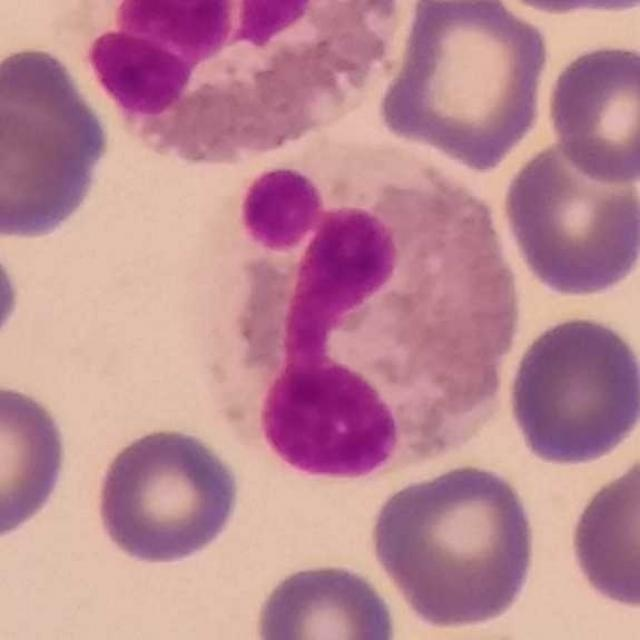Eosinophil: (201, 143, 529, 484), (80, 0, 407, 166)
RBC: (365, 459, 542, 632), (375, 0, 552, 170), (498, 134, 640, 300), (91, 422, 244, 568), (503, 311, 640, 468), (0, 41, 112, 199), (542, 39, 640, 186), (0, 104, 98, 244), (564, 444, 640, 613), (249, 556, 401, 640), (0, 377, 72, 545), (0, 233, 23, 356), (478, 0, 636, 17)
